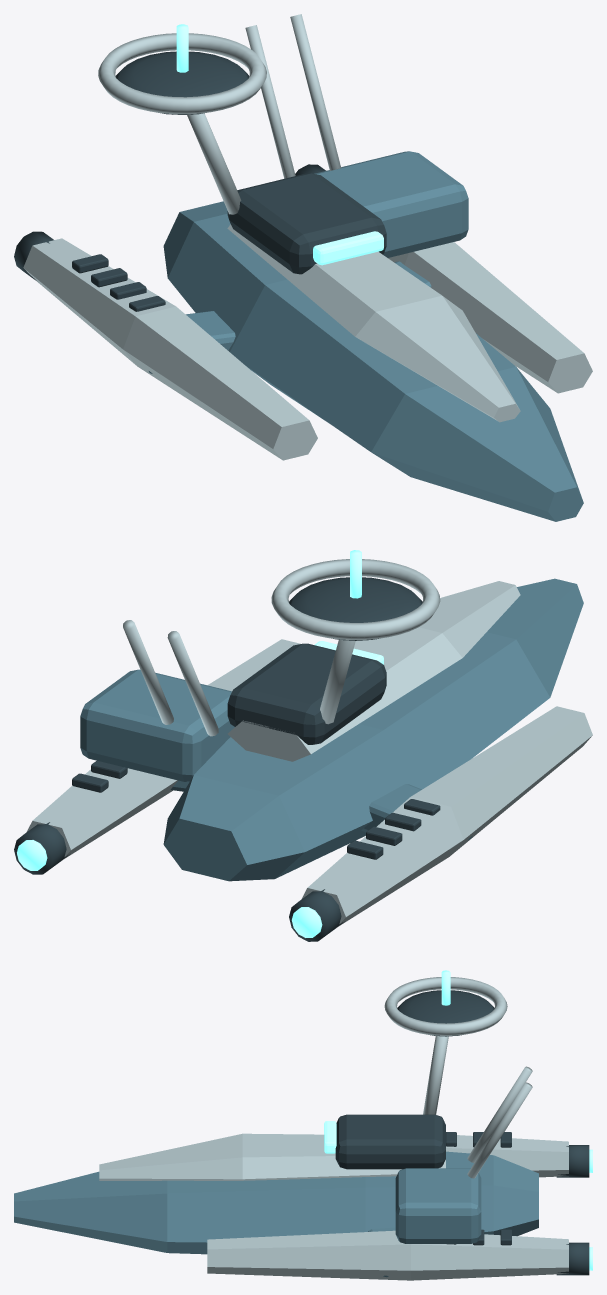
The model's file is mcp-ship.glb.
3 views of the same model, one above another, from view 1: azimuth 30°, elevation 25°; view 2: azimuth 150°, elevation 25°; view 3: azimuth 270°, elevation 25° (orthographic). The views are drawn at different scales.
Parts seen in each view (by area): view 1: body_ceramic.007, body_hull.007, body_dark.007, body_light.007; view 2: body_hull.007, body_ceramic.007, body_dark.007, body_light.007; view 3: body_hull.007, body_ceramic.007, body_dark.007, body_light.007.
Part boxes in pixels (x1,y1,x2,y2): body_ceramic.007: (23, 14, 592, 460); body_hull.007: (148, 151, 583, 521); body_dark.007: (14, 51, 386, 311); body_light.007: (176, 24, 383, 265); body_hull.007: (80, 578, 583, 881); body_ceramic.007: (27, 559, 592, 926); body_dark.007: (14, 577, 440, 941); body_light.007: (17, 550, 383, 937); body_hull.007: (14, 1151, 538, 1277); body_ceramic.007: (99, 977, 568, 1280); body_dark.007: (335, 990, 589, 1275); body_light.007: (324, 970, 592, 1270).
Bounding box in the file's own units: 0.862 × 0.7879 × 1.74.
